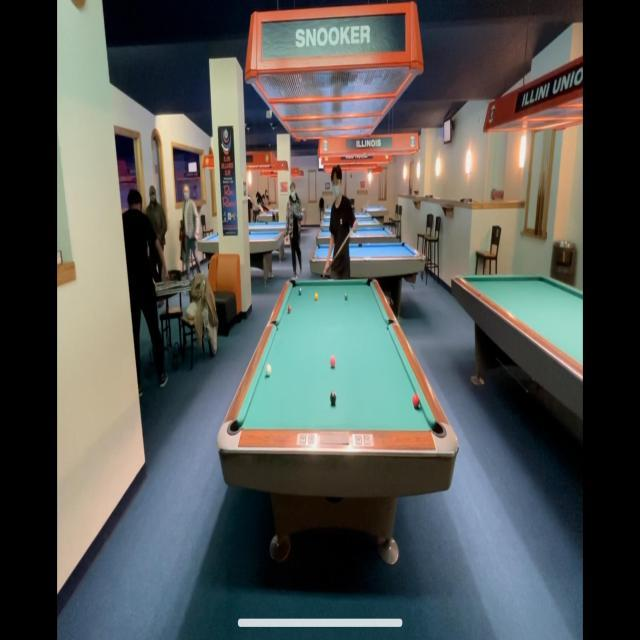Ball: (413, 392, 420, 410), (330, 390, 337, 406), (266, 364, 272, 377), (330, 356, 336, 368), (288, 304, 292, 314), (314, 293, 319, 301), (298, 287, 302, 295), (344, 292, 348, 300)
Pocket: (427, 418, 448, 441), (225, 418, 248, 435), (268, 319, 280, 332), (384, 319, 396, 330), (364, 276, 376, 287), (288, 278, 298, 288)
